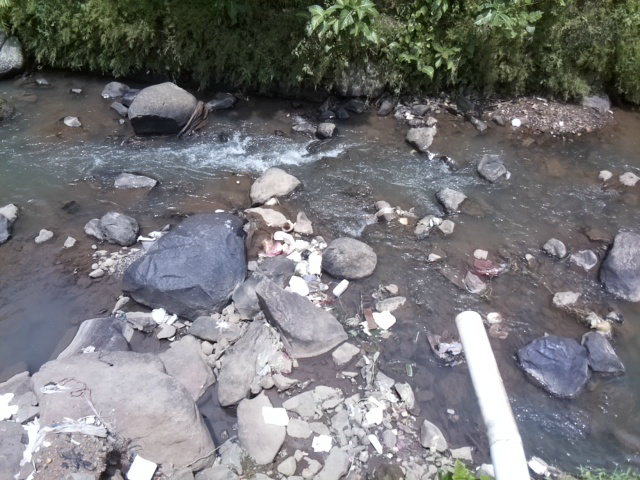Sampah_Plastik: (19, 410, 103, 458), (475, 256, 505, 278), (260, 240, 284, 259), (150, 307, 169, 322), (299, 247, 312, 260)
Sampah_Styrofoam: (127, 455, 157, 480), (260, 404, 292, 427), (311, 432, 333, 454), (372, 311, 396, 331), (287, 274, 309, 295), (308, 249, 322, 276), (332, 278, 350, 297), (272, 231, 295, 245), (294, 260, 308, 275), (286, 250, 302, 262), (291, 239, 309, 249)
